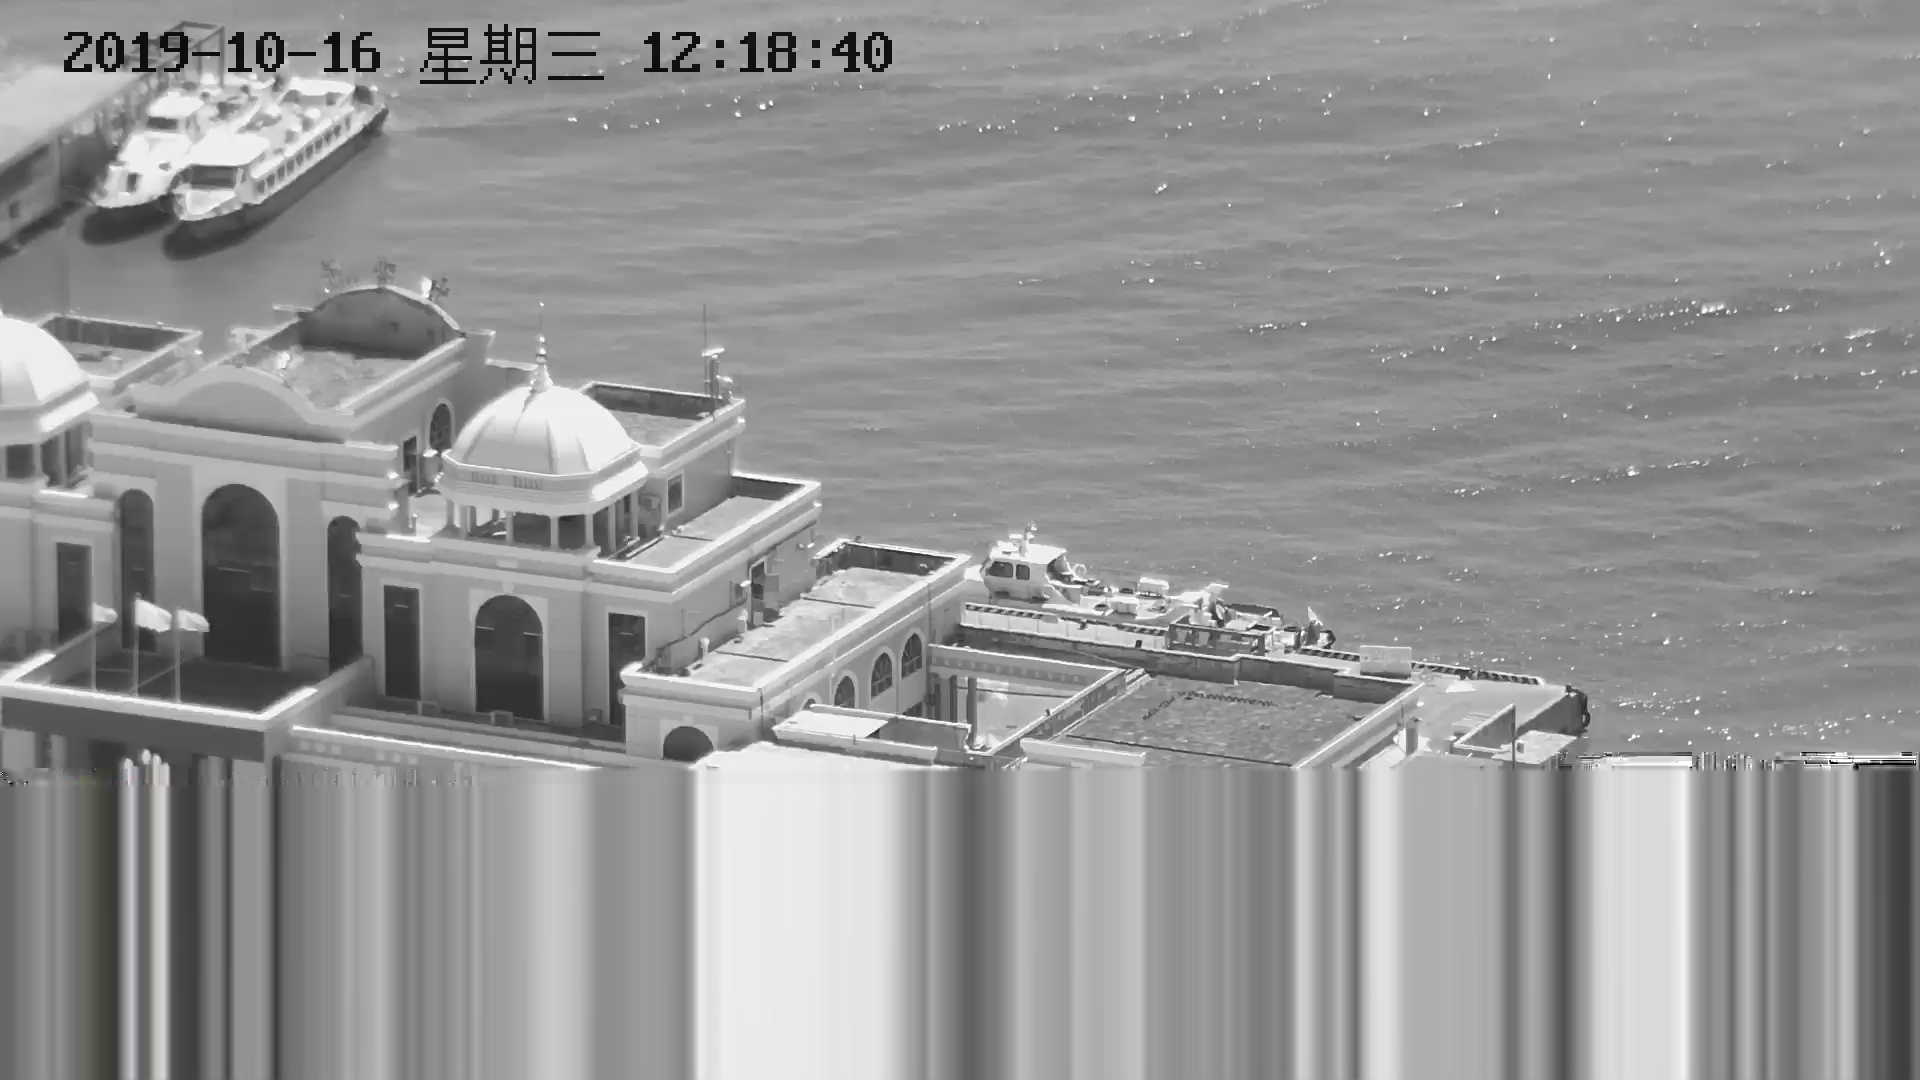ship: (166, 75, 389, 255), (80, 73, 301, 236)
